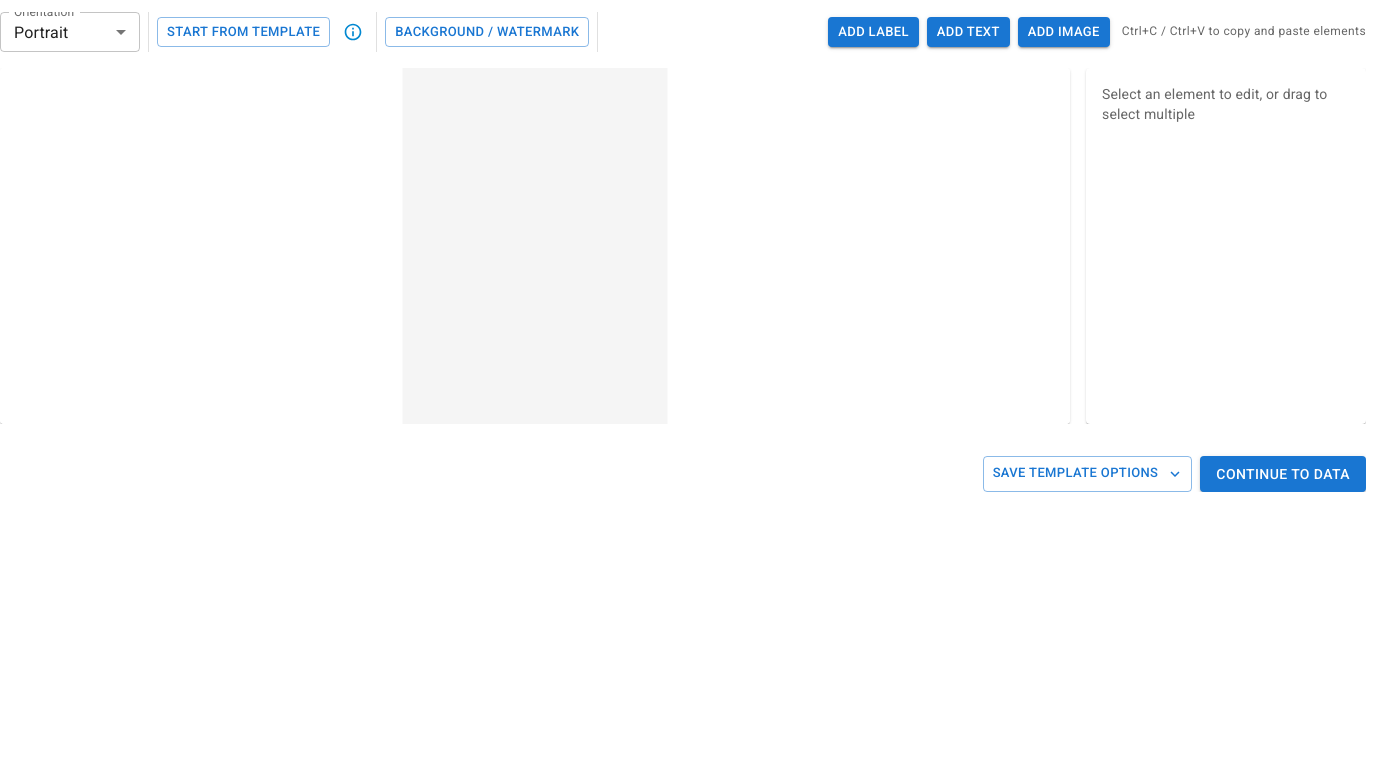
DesignStep — element selection and deletion › Delete Element removes the selected element
This screenshot has width=1378, height=780.
Click the button "Add Text" at (968, 32), box [927,17,1010,47]
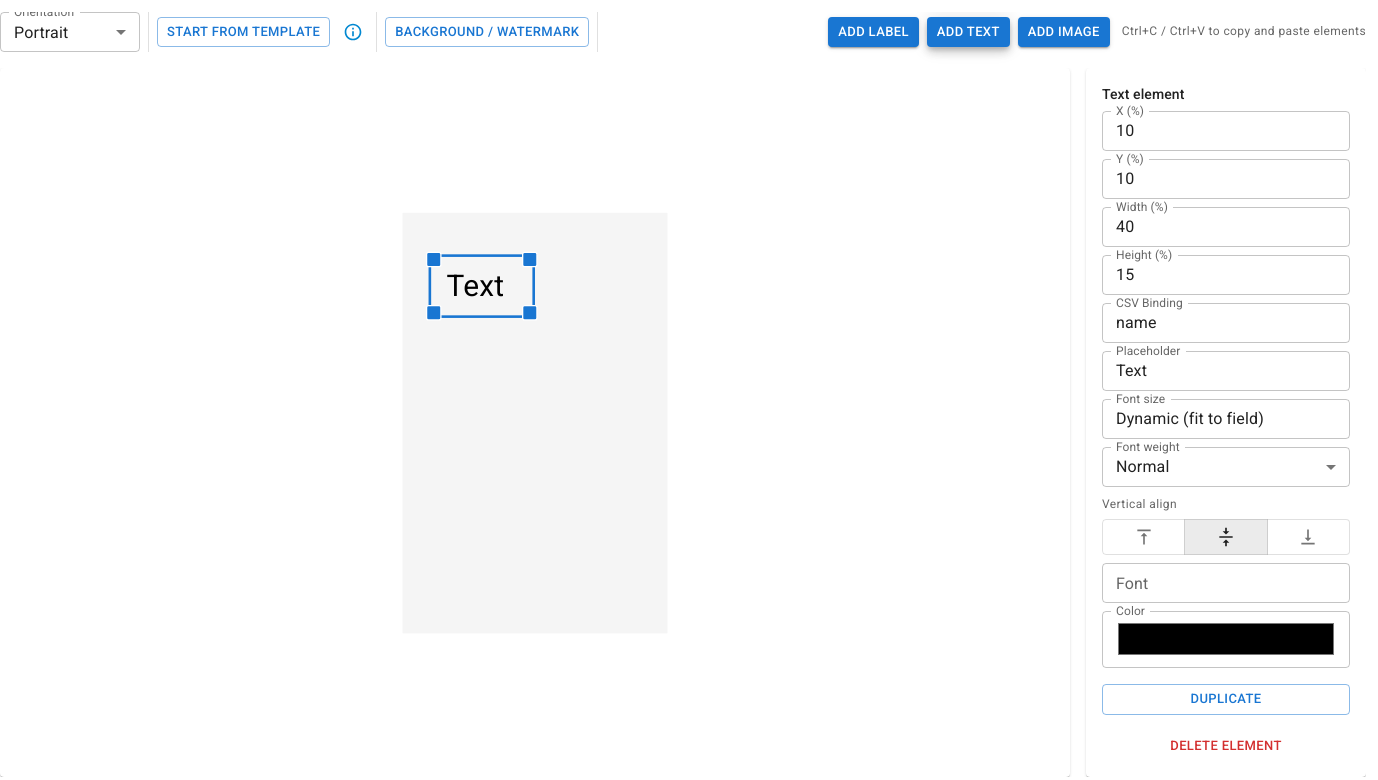
Click the button "Delete Element" at (1226, 746), box [1102,730,1350,761]
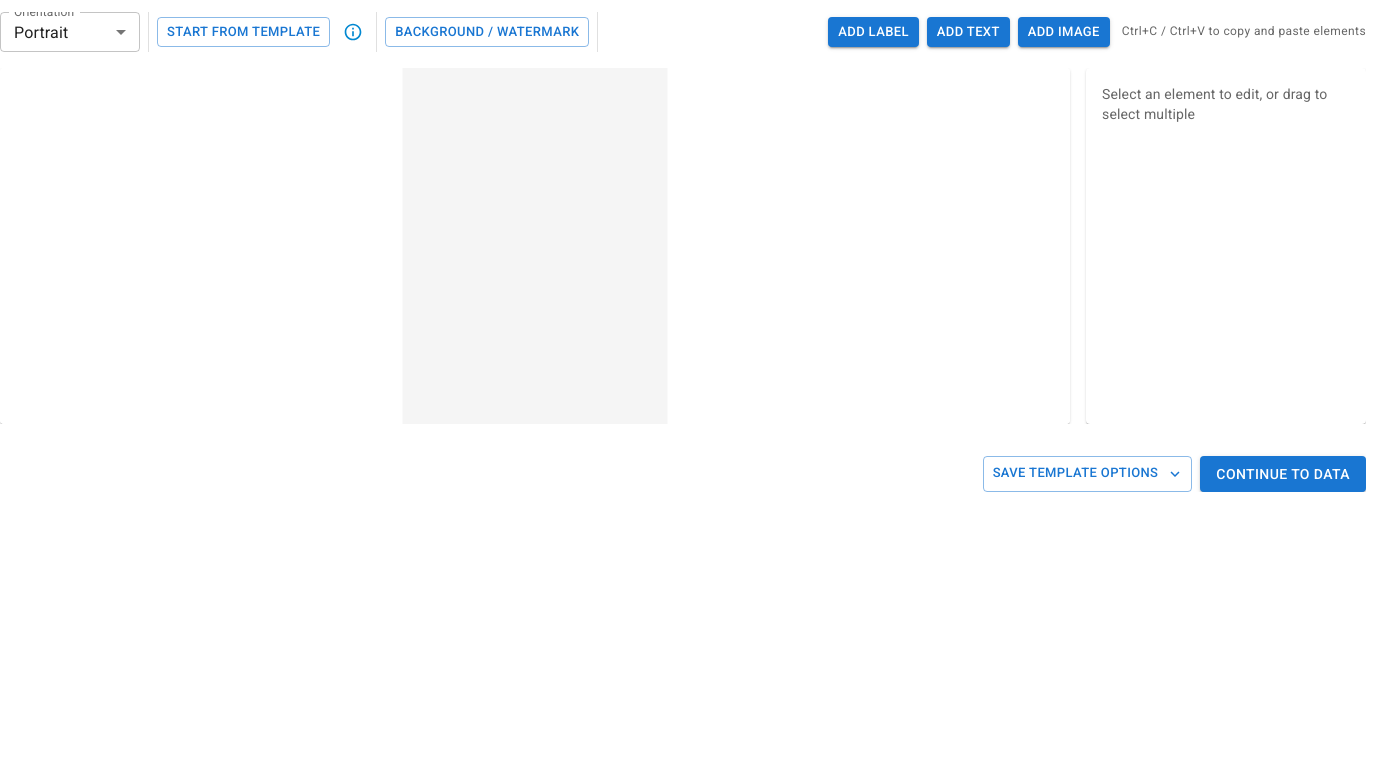
Now the text "Select an element to edit, or drag to select multiple" is shown, box [1102,84,1350,124]
